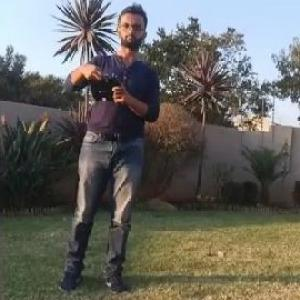follow: (51, 3, 165, 299)
